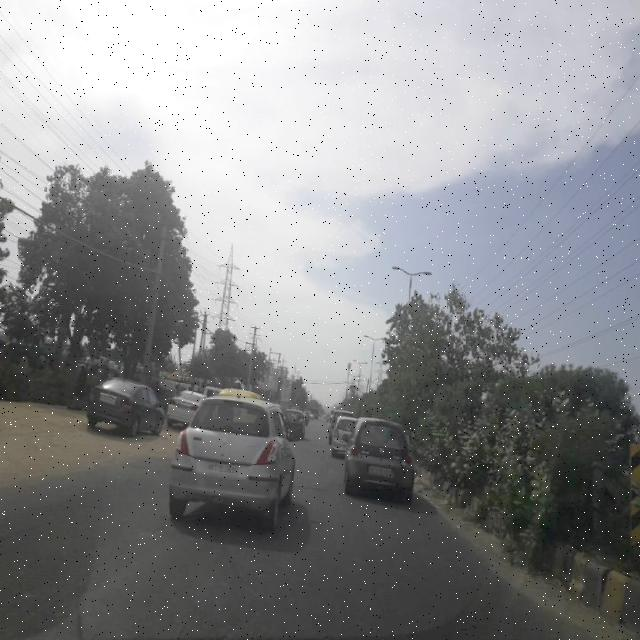D20: (0, 514, 538, 634)
